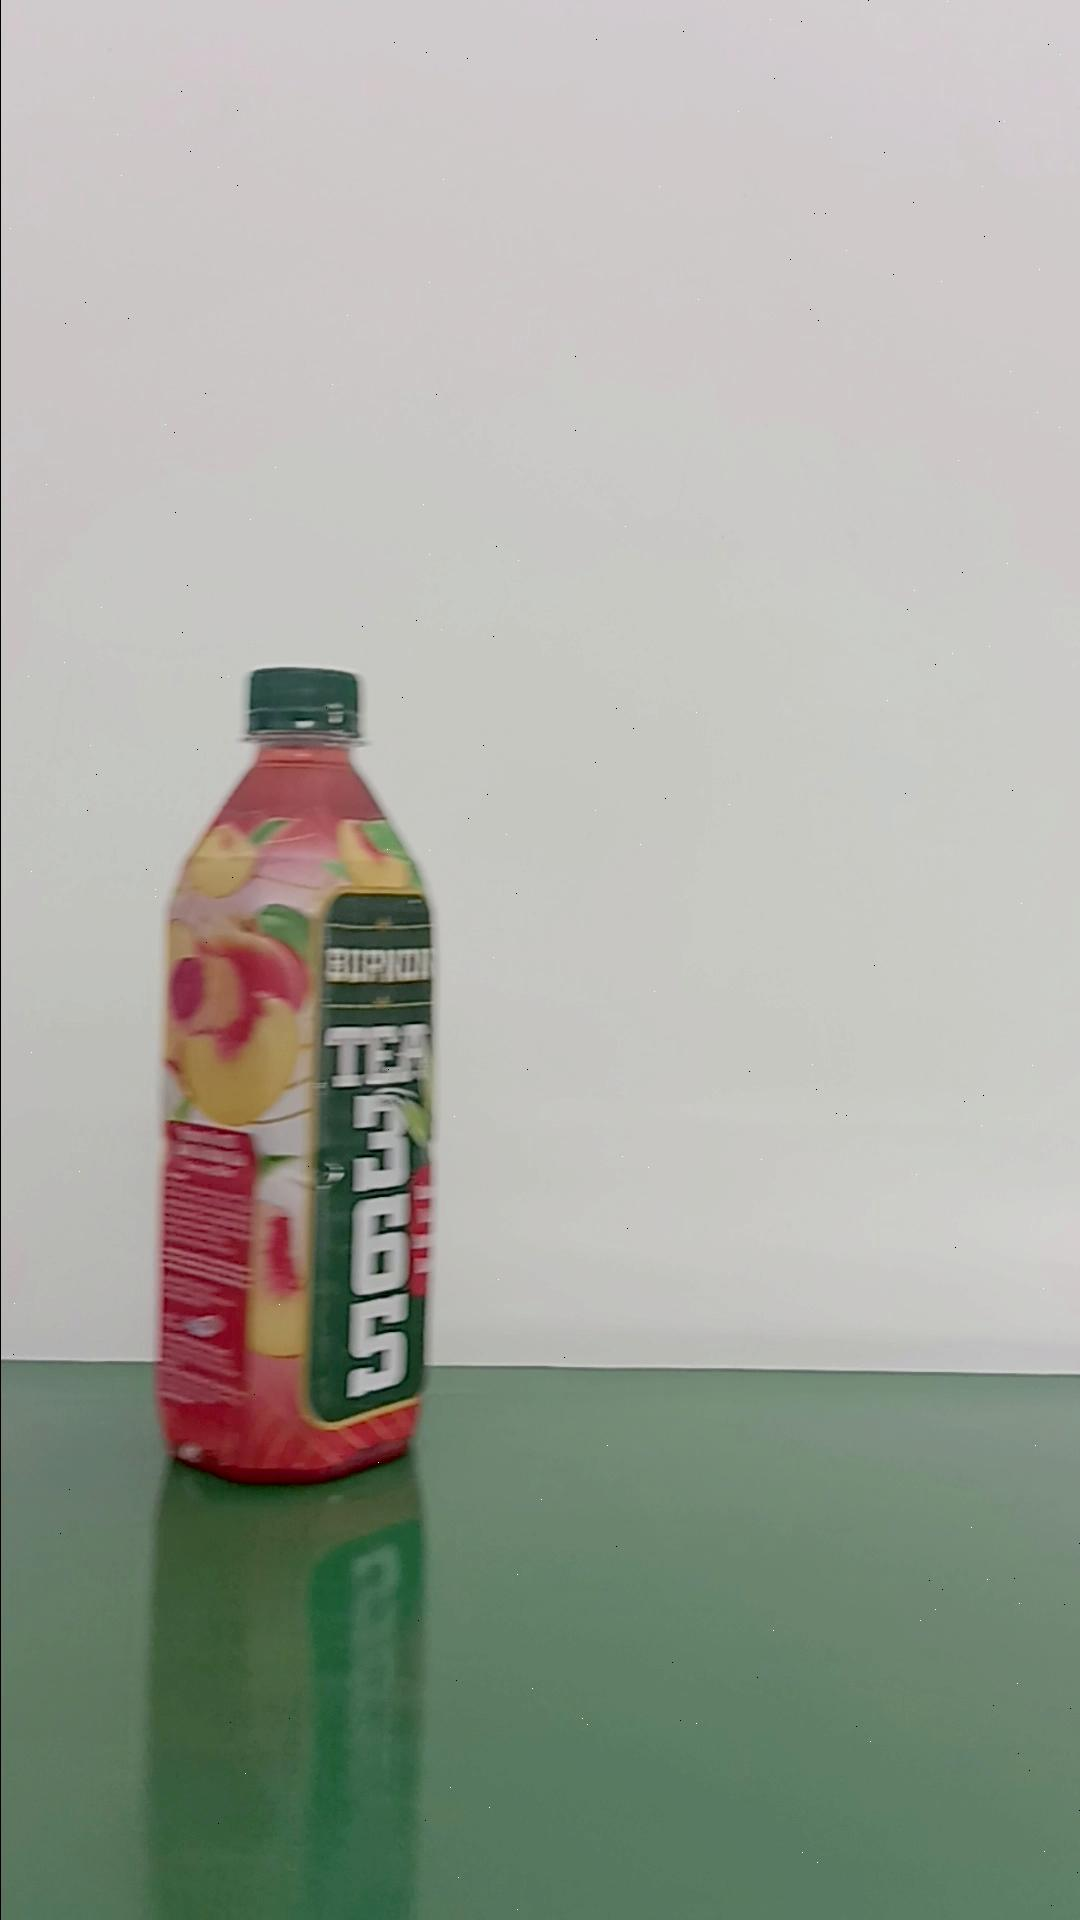khong loi: (152, 663, 438, 1485)
